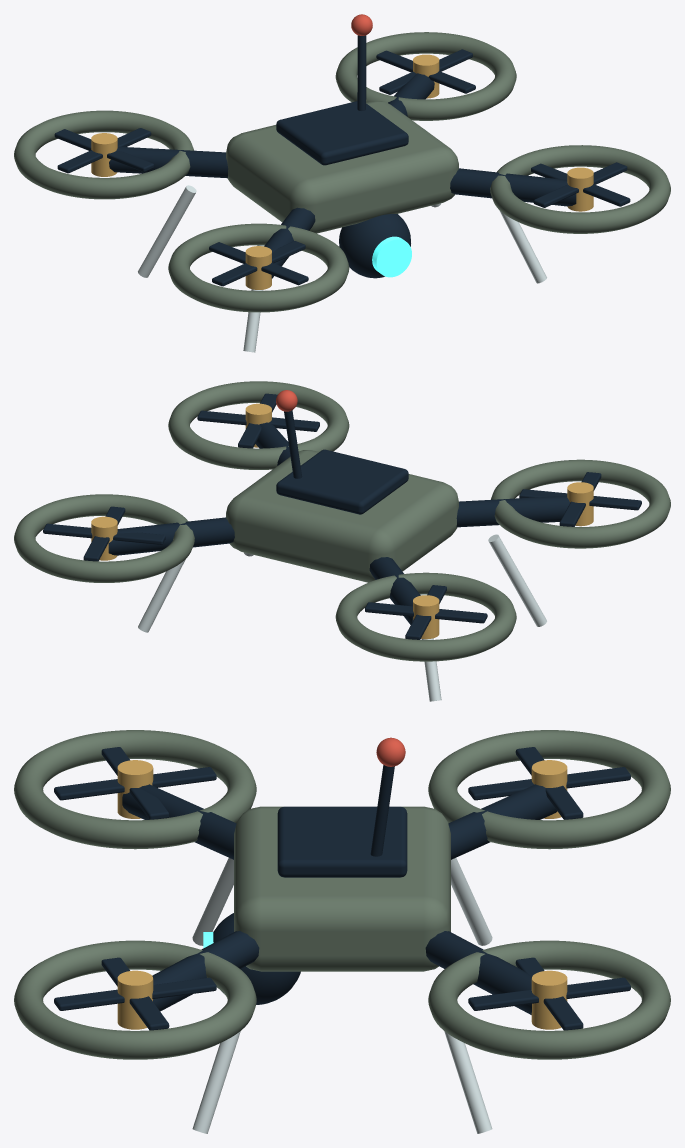
File: delta.glb
The picture shows the model from 3 angles, top to bottom: view 1: azimuth 30°, elevation 25°; view 2: azimuth 150°, elevation 25°; view 3: azimuth 270°, elevation 25°; orthographic projection. The views are drawn at different scales.
Parts seen in each view (by area): view 1: Propeller guard (×4), Drone airframe, Rotor blade (×8), Carbon arm (×4), Battery hatch, Ring housing (×5), Support (×3), Gimbal camera, Antenna; view 2: Propeller guard (×4), Drone airframe, Carbon arm (×4), Rotor blade (×8), Battery hatch, Ring housing (×4), Support (×3), Antenna; view 3: Propeller guard (×4), Drone airframe, Rotor blade (×8), Carbon arm (×4), Battery hatch, Support (×4), Ring housing (×4), Gimbal camera, Antenna, Core.
Part boxes in pixels (bbox=[...]): Propeller guard (×4): bbox=[14, 32, 670, 312]; Drone airframe: bbox=[226, 101, 458, 233]; Rotor blade (×8): bbox=[54, 49, 630, 286]; Carbon arm (×4): bbox=[109, 73, 576, 278]; Battery hatch: bbox=[276, 101, 408, 165]; Ring housing (×5): bbox=[91, 54, 593, 289]; Support (×3): bbox=[138, 185, 546, 352]; Gimbal camera: bbox=[339, 214, 410, 278]; Antenna: bbox=[357, 35, 366, 110]; Propeller guard (×4): bbox=[14, 381, 670, 661]; Drone airframe: bbox=[226, 450, 458, 582]; Carbon arm (×4): bbox=[108, 422, 570, 624]; Rotor blade (×8): bbox=[43, 393, 641, 639]; Battery hatch: bbox=[276, 449, 408, 514]; Ring housing (×4): bbox=[91, 403, 593, 639]; Support (×3): bbox=[138, 534, 546, 701]; Antenna: bbox=[284, 410, 302, 478]; Propeller guard (×4): bbox=[14, 730, 670, 1059]; Drone airframe: bbox=[234, 806, 450, 971]; Rotor blade (×8): bbox=[54, 747, 630, 1030]; Carbon arm (×4): bbox=[122, 784, 557, 1014]; Battery hatch: bbox=[277, 806, 407, 877]; Support (×4): bbox=[192, 858, 492, 1133]; Ring housing (×4): bbox=[117, 760, 567, 1029]; Gimbal camera: bbox=[213, 913, 300, 1004]; Antenna: bbox=[370, 765, 394, 856]; Core: bbox=[376, 737, 405, 766].
Size of the model in its own units: 2.29 by 1.11 by 2.03.
